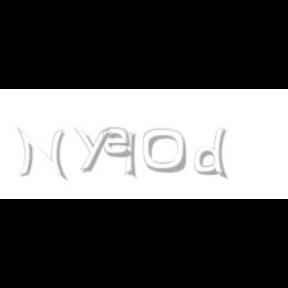I: (124, 128, 138, 180)
N: (16, 128, 66, 180)
O: (142, 128, 188, 174)
d: (195, 128, 232, 180)
e: (104, 128, 136, 158)
y: (74, 128, 114, 172)
